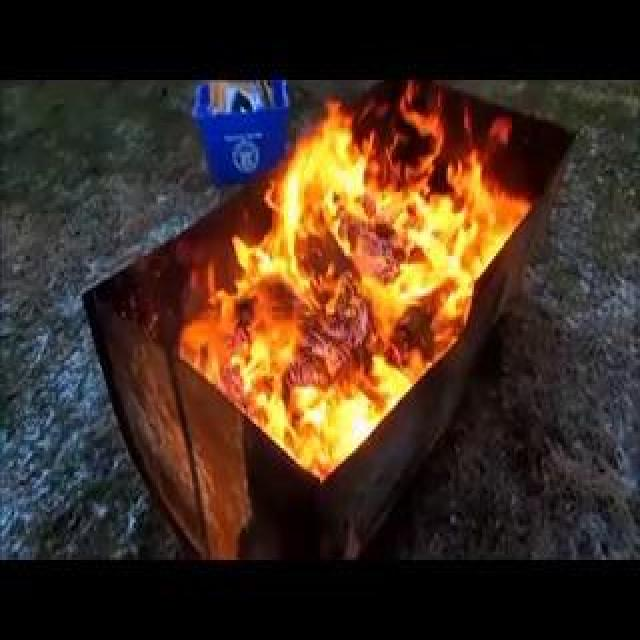Fire: (346, 284, 361, 402)
